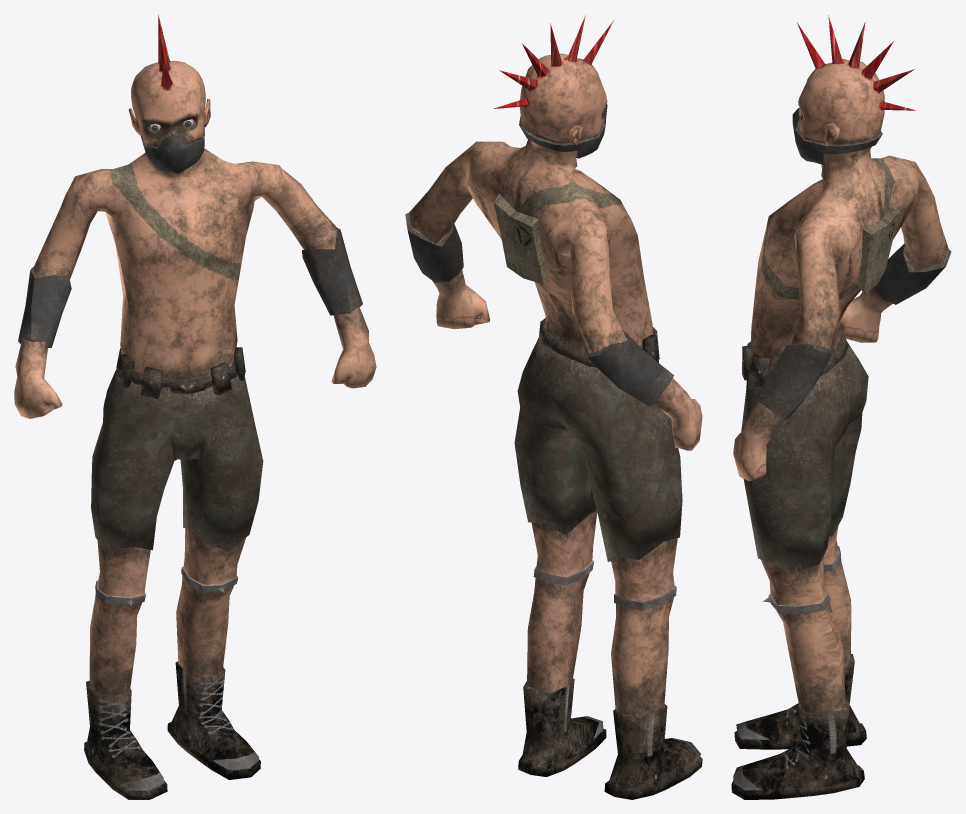
File: Anim_recibirdanyo_1_npc2.0015.obj
3 renders of one model, left to right at view 1: azimuth 30°, elevation 25°; view 2: azimuth 150°, elevation 25°; view 3: azimuth 270°, elevation 25°, orthographic. The views are drawn at different scales.
Visible parts, largest first — view 1: polySurface1; view 2: polySurface1; view 3: polySurface1.
Part boxes in pixels (left/top/right/bottom): polySurface1: left=14, top=14, right=376, bottom=799; polySurface1: left=405, top=15, right=702, bottom=799; polySurface1: left=731, top=15, right=951, bottom=799.
Size of the model in its own units: 4.41 by 10.1 by 2.66.
